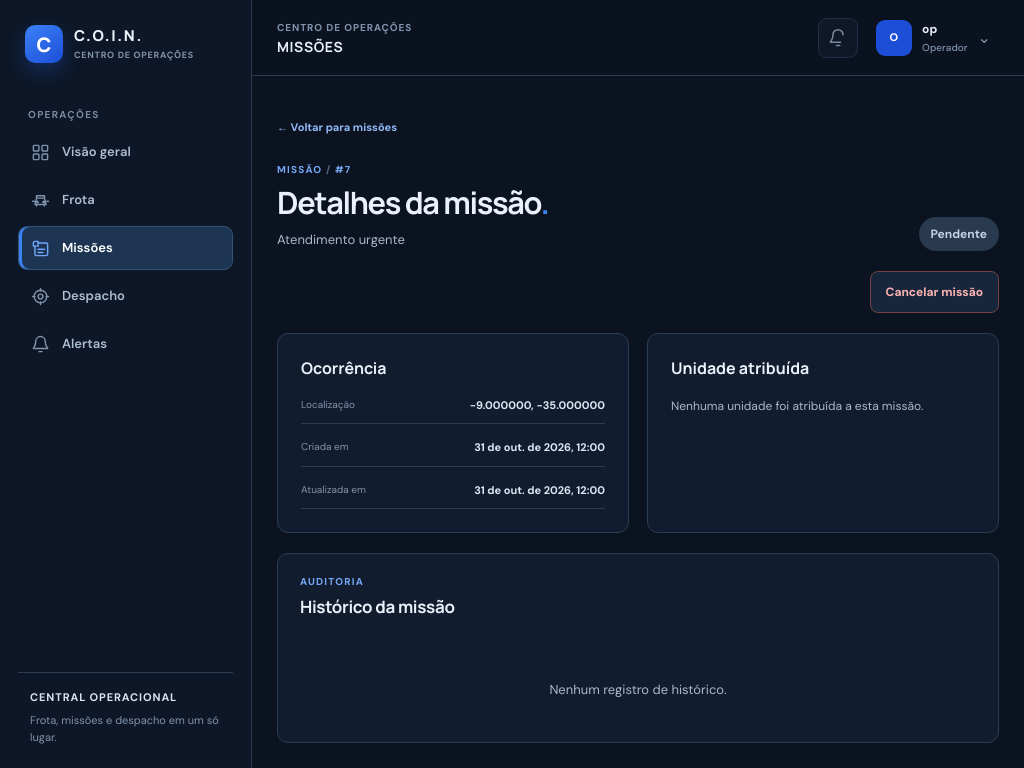
Test: operações de escrita › cancela com motivo opcional e restaura foco ao fechar com Escape
Click the button "Cancelar missão": x=934, y=292 [870,271,999,313]
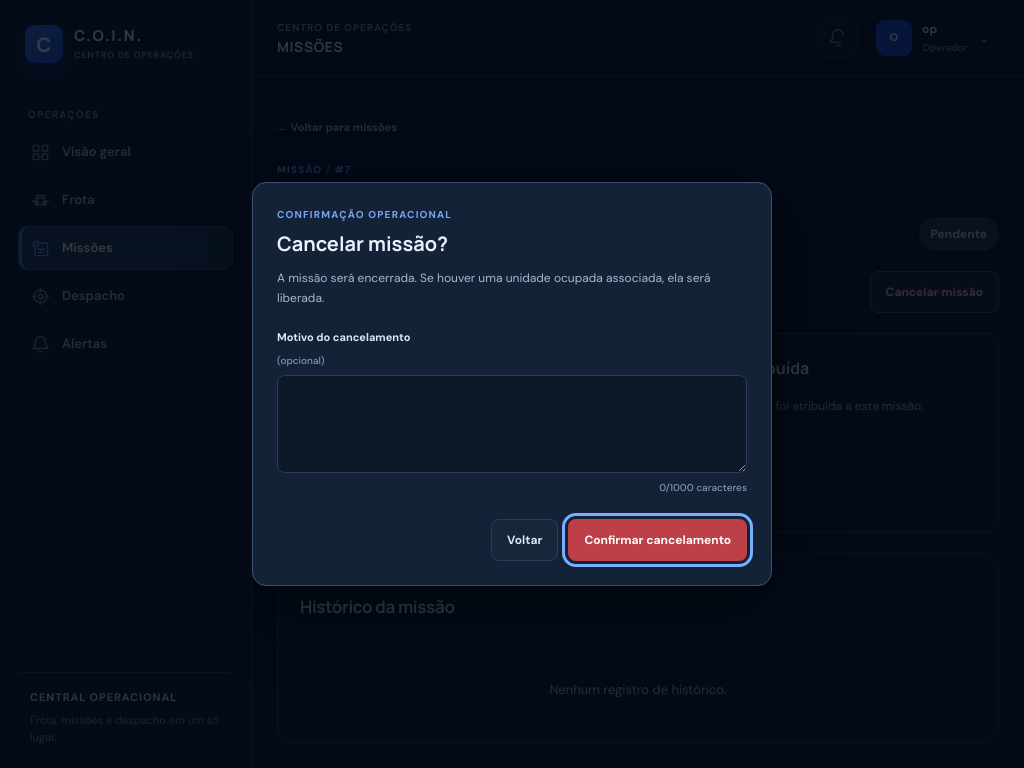
Press Escape in the dialog, box [252,182,772,586]
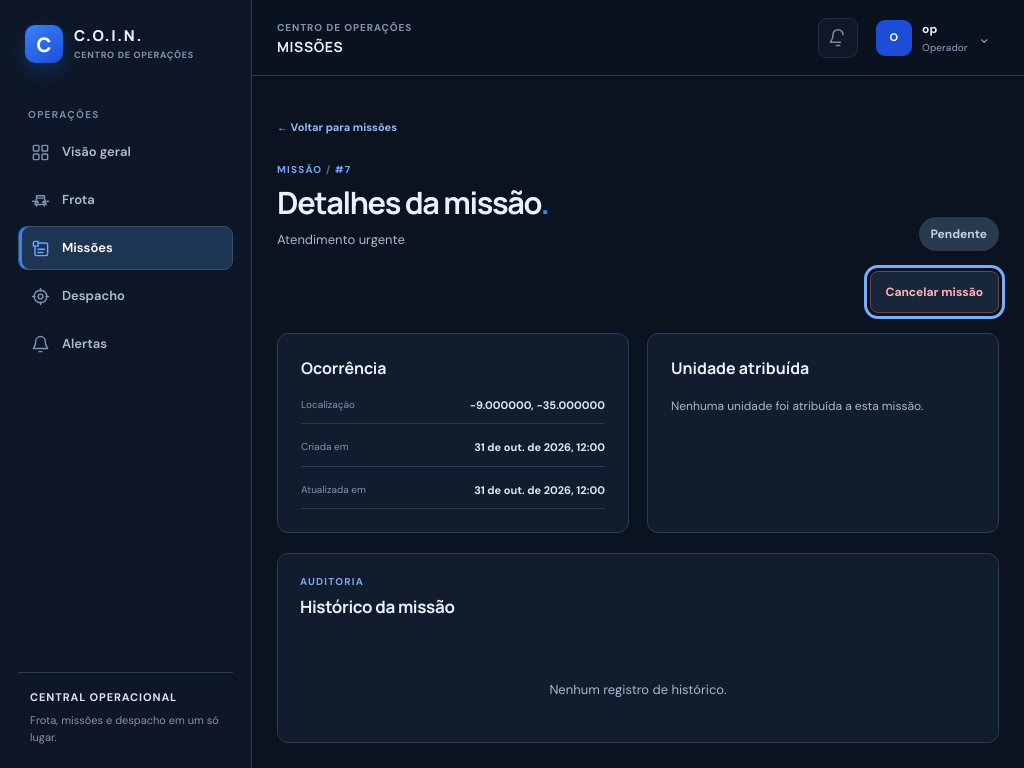
Click the button "Cancelar missão": x=934, y=292 [870,271,999,313]
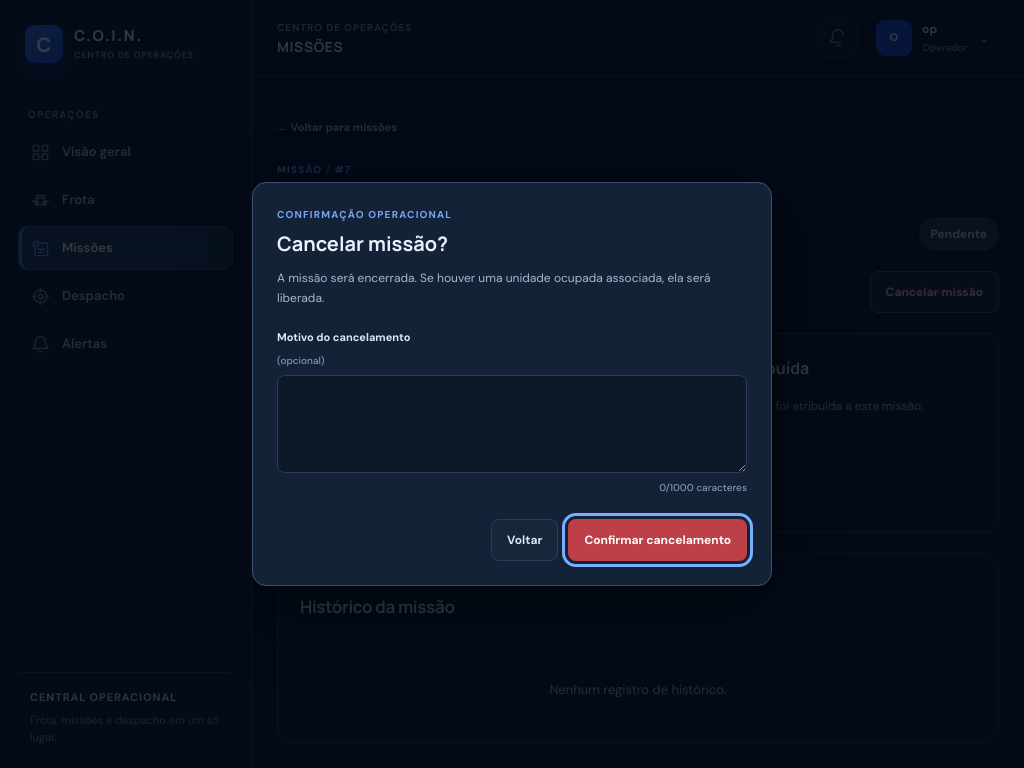
In the text box labelled "Motivo do cancelamento (opcional) 0/1000 caracteres": x=512, y=424 [277,374,747,472], type "  Sem acesso  "
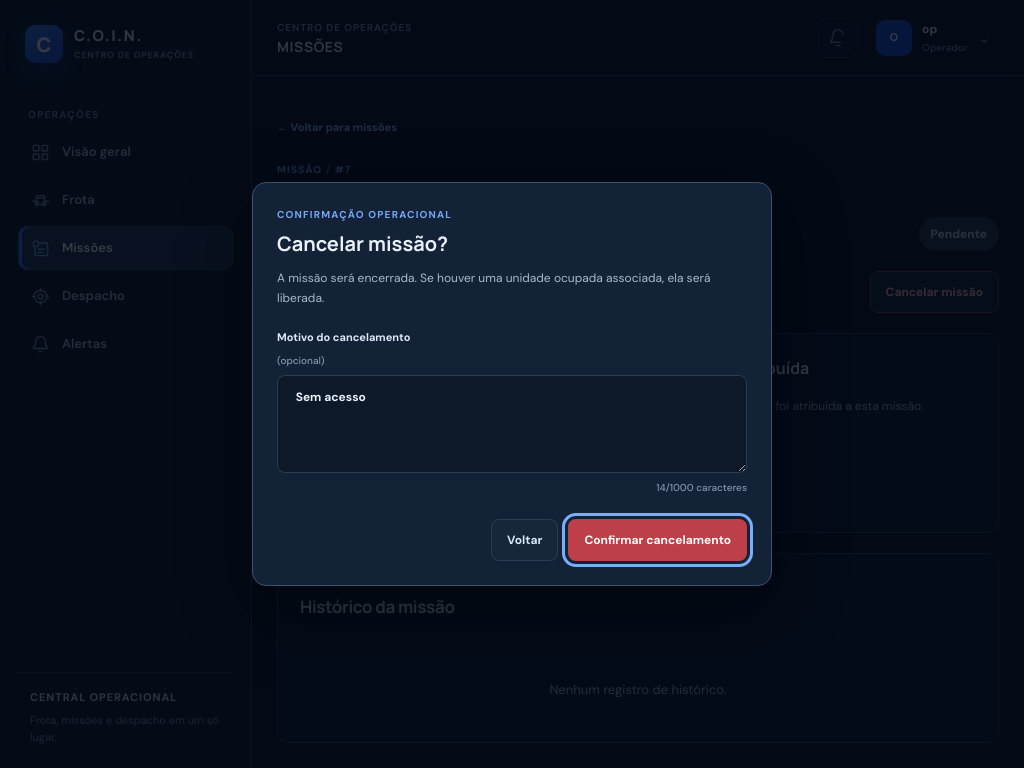
Click the button "Confirmar cancelamento": x=658, y=540 [568,518,747,560]
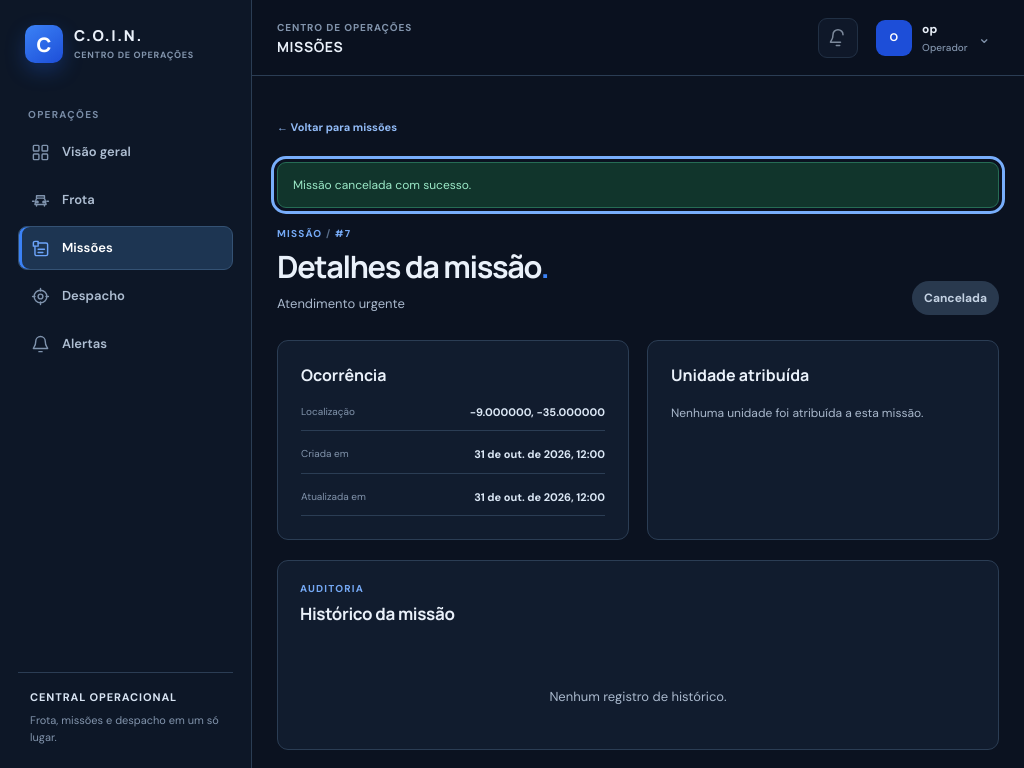
expect the text "Missão cancelada com sucesso." is shown: met, box [277,162,999,208]
